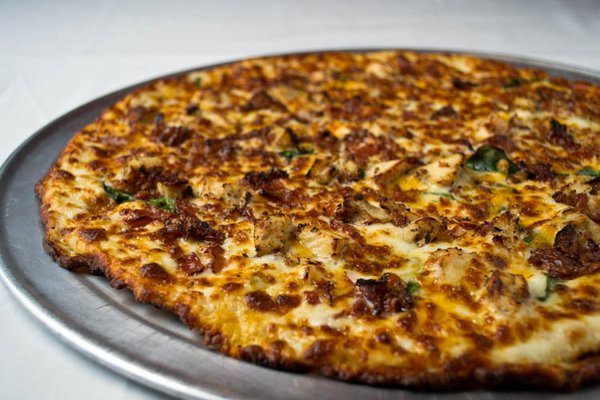sandwich: (31, 49, 599, 386)
